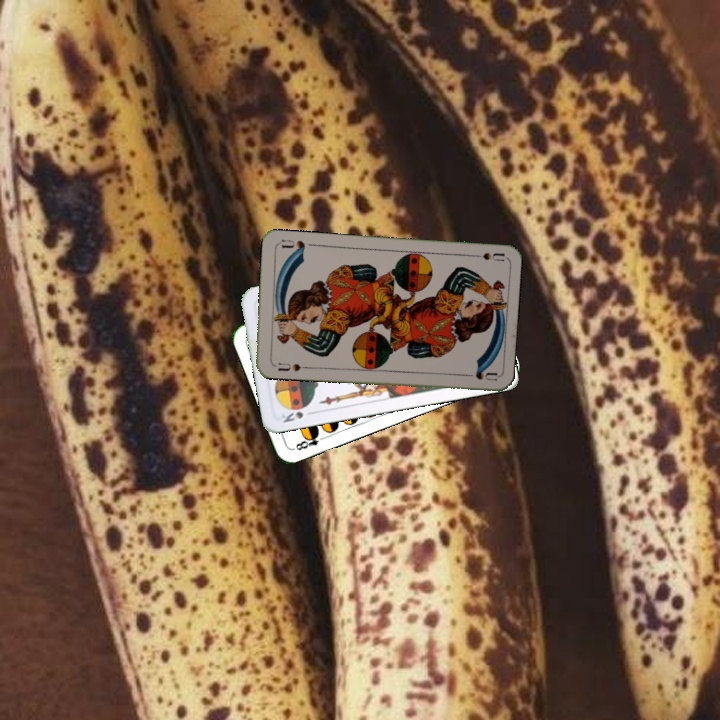E8: (289, 428, 328, 453)
SK: (277, 403, 310, 425)
SU: (465, 248, 506, 264), (274, 359, 303, 374)
